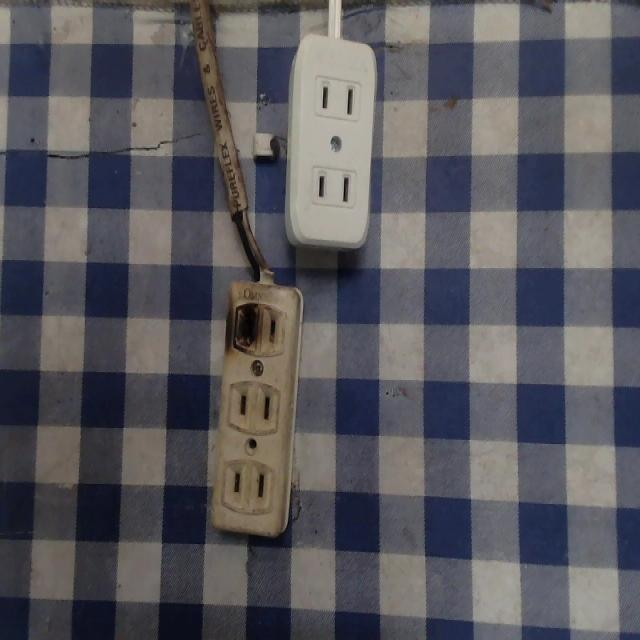-: (225, 300, 266, 360)
